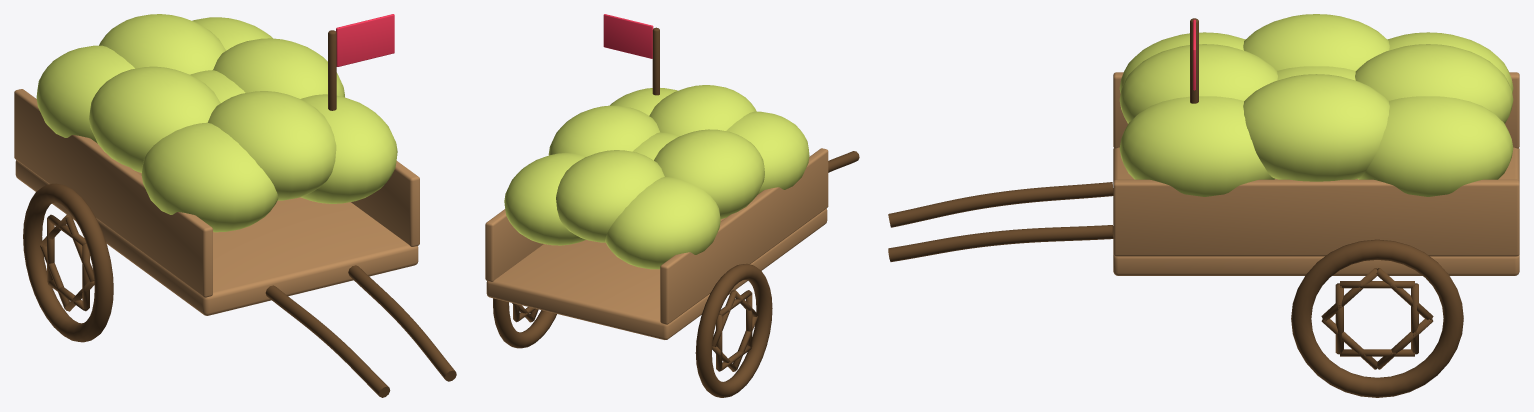
The model's file is gerobak-padi.glb.
3 views of the same model, side by side, from view 1: azimuth 30°, elevation 25°; view 2: azimuth 150°, elevation 25°; view 3: azimuth 270°, elevation 25° (orthographic). The views are drawn at different scales.
Visible parts, largest first — view 1: Cube, Cube.001, Sphere, Sphere.001, Sphere.003, Torus.007, Sphere.002, Sphere.005, Sphere.006, Sphere.007, Cube.002, Cube.003 (+6 smaller); view 2: Cube, Cube.001, Sphere.006, Sphere.007, Sphere.003, Torus.007, Sphere.008, Sphere.005, Sphere, Sphere.001, Cube.002, Cube.003 (+5 smaller); view 3: Cube.002, Sphere.005, Sphere.008, Sphere.002, Torus.008, Cube, Sphere.007, Sphere.001, Sphere.003, tube, tube.001, Sphere.006 (+4 smaller).
Boxes of the visible parts, x1,y1,x2,y2 form: Cube: [15, 160, 418, 315]; Cube.001: [14, 89, 212, 297]; Sphere: [141, 122, 278, 232]; Sphere.001: [208, 91, 336, 200]; Sphere.003: [89, 66, 220, 172]; Torus.007: [23, 183, 113, 342]; Sphere.002: [300, 94, 397, 203]; Sphere.005: [213, 38, 344, 98]; Sphere.006: [36, 45, 134, 143]; Sphere.007: [99, 14, 225, 74]; Cube.002: [351, 161, 419, 246]; Cube.003: [336, 14, 394, 66]; Cube: [486, 208, 827, 339]; Cube.001: [660, 148, 828, 324]; Sphere.006: [605, 177, 720, 269]; Sphere.007: [556, 150, 664, 242]; Sphere.003: [654, 129, 764, 219]; Torus.007: [695, 263, 772, 397]; Sphere.008: [504, 152, 586, 245]; Sphere.005: [548, 105, 659, 156]; Sphere: [726, 111, 809, 193]; Sphere.001: [649, 85, 756, 136]; Cube.002: [485, 209, 543, 281]; Cube.003: [603, 14, 653, 58]; Cube.002: [1113, 179, 1519, 256]; Sphere.005: [1243, 74, 1389, 181]; Sphere.008: [1358, 96, 1513, 196]; Sphere.002: [1119, 96, 1274, 196]; Torus.008: [1291, 239, 1463, 397]; Cube: [1113, 147, 1519, 275]; Sphere.007: [1355, 44, 1513, 123]; Sphere.001: [1119, 44, 1277, 123]; Sphere.003: [1243, 14, 1389, 70]; tube: [888, 182, 1113, 227]; tube.001: [888, 225, 1113, 261]; Sphere.006: [1387, 32, 1513, 93].
Bounding box in the file's own units: 3.1 × 3.77 × 6.21.
